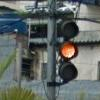traffic lights: (57, 19, 79, 85)
